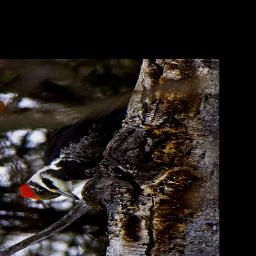Woodpecker: (14, 105, 125, 202)
